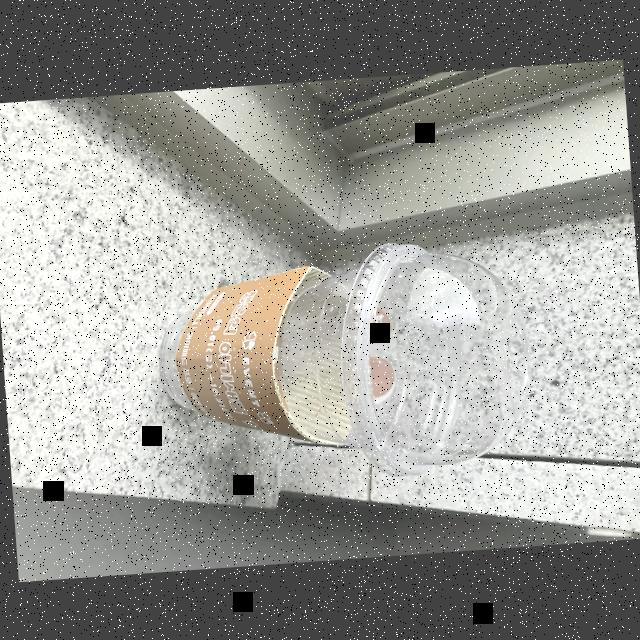plastic_cup: (149, 231, 539, 494)
plastic_cup_lid: (330, 226, 536, 480)
